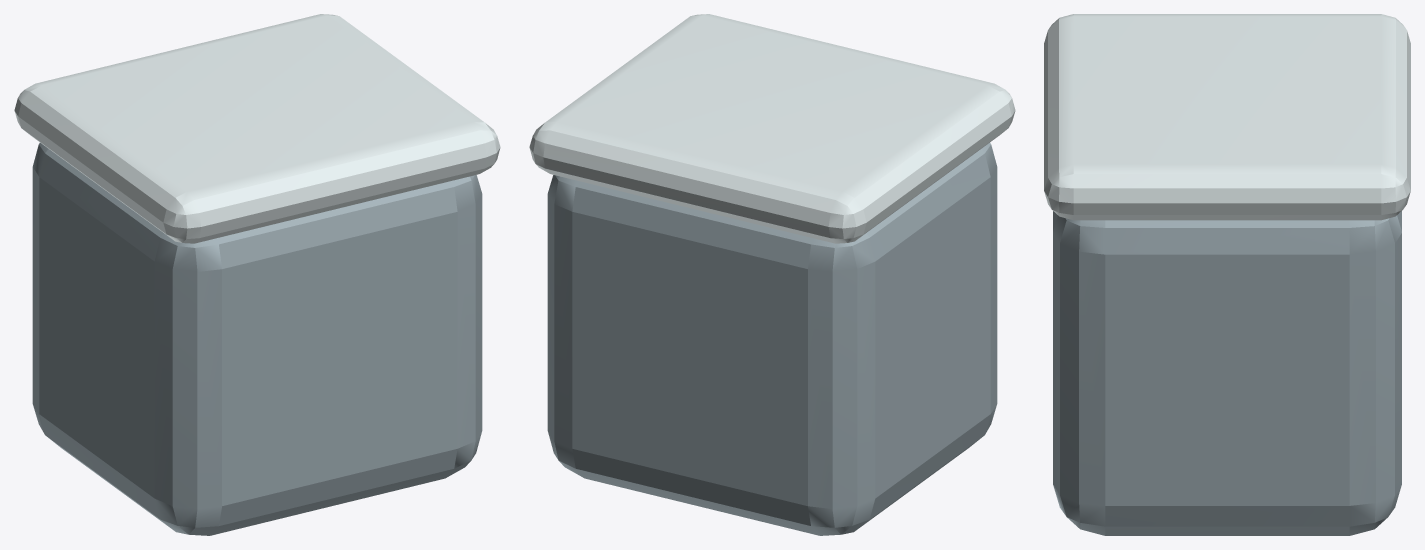
File: cliff.glb
The picture shows the model from 3 angles, left to right: view 1: azimuth 30°, elevation 25°; view 2: azimuth 150°, elevation 25°; view 3: azimuth 270°, elevation 25°; orthographic projection. The views are drawn at different scales.
Visible parts, largest first — view 1: CliffStone, SnowCap; view 2: CliffStone, SnowCap; view 3: CliffStone, SnowCap.
Boxes of the visible parts, <box> form: CliffStone: <box>32,143,482,535</box>; SnowCap: <box>14,14,500,243</box>; CliffStone: <box>547,143,997,535</box>; SnowCap: <box>529,14,1015,243</box>; CliffStone: <box>1053,211,1401,535</box>; SnowCap: <box>1044,14,1410,220</box>.
Bounding box in the file's own units: 1.87 × 1.92 × 1.68.
